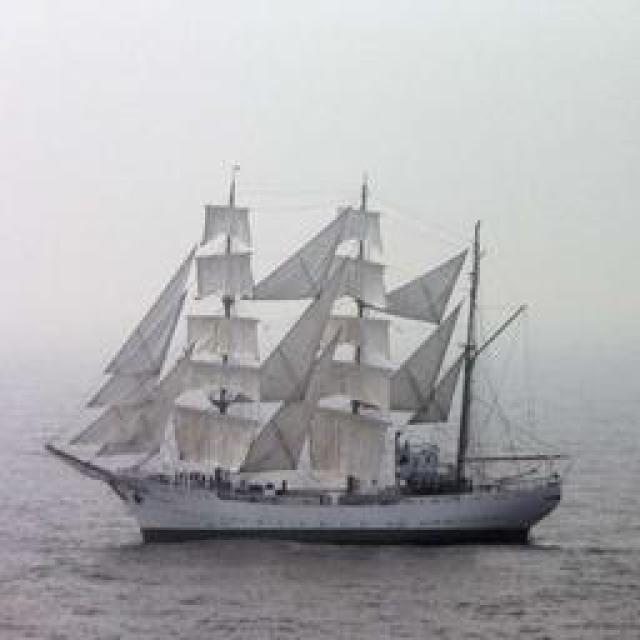Ship: (41, 171, 566, 531)
